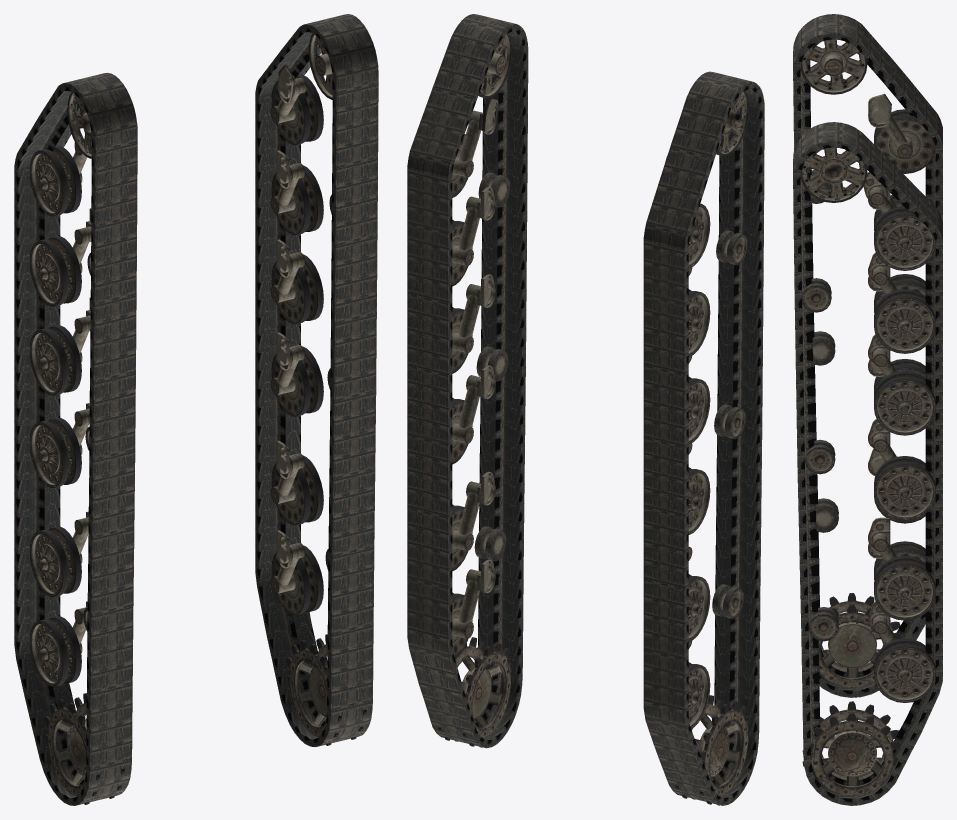
The model's file is Chassis.glb.
3 views of the same model, side by side, from view 1: azimuth 30°, elevation 25°; view 2: azimuth 150°, elevation 25°; view 3: azimuth 270°, elevation 25° (orthographic). The views are drawn at different scales.
Parts seen in each view (by area): view 1: set_0_group_0, set_1_group_0, set_2_group_0, set_3_group_0; view 2: set_0_group_0, set_1_group_0, set_3_group_0, set_2_group_0; view 3: set_3_group_0, set_1_group_0, set_2_group_0, set_0_group_0.
Boxes of the visible parts, left/top/right/bottom form: set_0_group_0: left=14, top=72, right=137, bottom=805; set_1_group_0: left=255, top=14, right=378, bottom=747; set_2_group_0: left=30, top=92, right=124, bottom=804; set_3_group_0: left=270, top=34, right=366, bottom=745; set_0_group_0: left=643, top=71, right=764, bottom=805; set_1_group_0: left=407, top=14, right=528, bottom=748; set_3_group_0: left=438, top=33, right=512, bottom=747; set_2_group_0: left=666, top=91, right=748, bottom=805; set_3_group_0: left=800, top=147, right=935, bottom=796; set_1_group_0: left=793, top=122, right=942, bottom=805; set_2_group_0: left=800, top=39, right=935, bottom=687; set_0_group_0: left=793, top=14, right=942, bottom=697.
Size of the model in its own units: 2.2 by 5.39 by 1.1.
4 materials, 4 textured.
